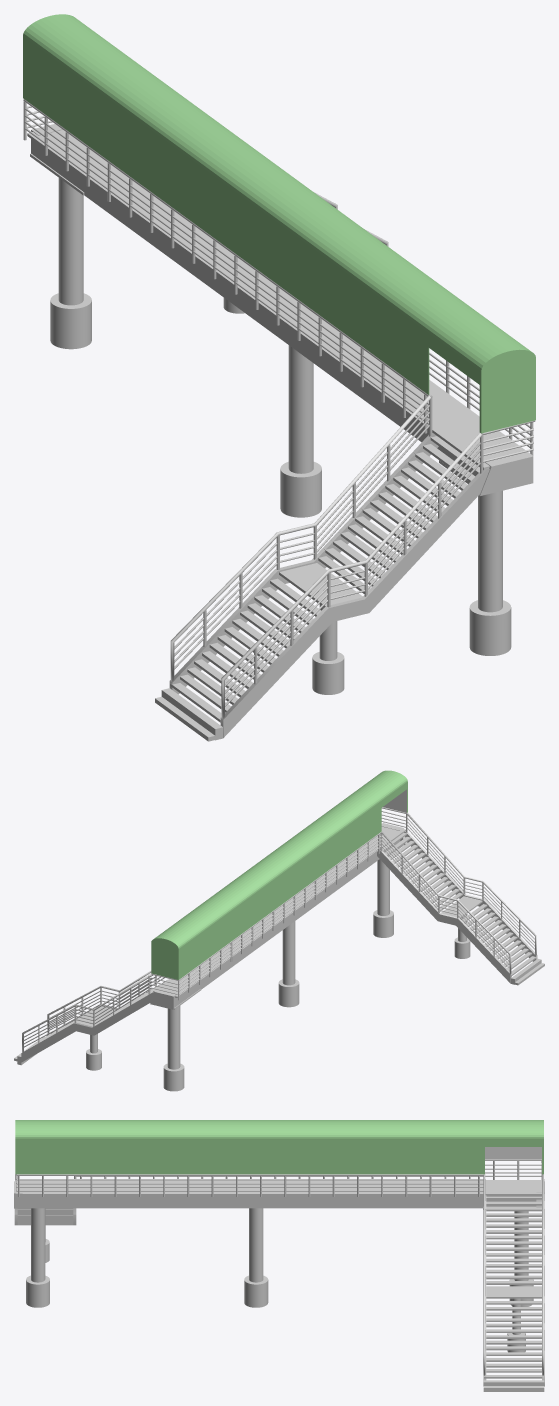
Rendered from Footbridge.fbx.
3 views of the same model, one above another, from view 1: azimuth 30°, elevation 25°; view 2: azimuth 150°, elevation 25°; view 3: azimuth 270°, elevation 25° (orthographic). The views are drawn at different scales.
Parts seen in each view (by area): view 1: Cylinder.001, land_1_2, land_2_3, Sweep_1_8, Sweep_1_9, Cylinder, Cylinder_8, Cylinder_1, Cylinder_4, Cylinder_3, Cylinder_9, Cylinder_Sweep_4 (+16 smaller); view 2: Cylinder.001, land_1_2, land_2_3, Sweep_1_9, Sweep_1_6, Sweep_1_8, Cylinder_8, Cylinder, Cylinder_1, Cylinder_9, Cylinder_3, Cylinder_4 (+5 smaller); view 3: Cylinder.001, land_1_2, land_2_2, Cylinder_1, Cylinder, Sweep_1, Sweep_3, Sweep_2, Sweep_1_2, Sweep_2_2, land_3_3, Cylinder_3 (+7 smaller).
Part boxes in pixels (x1=…): Cylinder.001: x1=23, y1=14, x2=535, y2=433; land_1_2: x1=27, y1=130, x2=532, y2=469; land_2_3: x1=33, y1=140, x2=476, y2=476; Sweep_1_8: x1=220, y1=468, x2=489, y2=738; Sweep_1_9: x1=169, y1=433, x2=438, y2=694; Cylinder: x1=288, y1=345, x2=313, y2=473; Cylinder_8: x1=58, y1=178, x2=83, y2=305; Cylinder_1: x1=478, y1=490, x2=502, y2=612; Cylinder_4: x1=469, y1=600, x2=511, y2=655; Cylinder_3: x1=280, y1=461, x2=321, y2=517; Cylinder_9: x1=50, y1=293, x2=91, y2=349; Cylinder_Sweep_4: x1=170, y1=395, x2=430, y2=681; Cylinder.001: x1=151, y1=770, x2=407, y2=979; land_1_2: x1=153, y1=826, x2=405, y2=997; land_2_3: x1=175, y1=840, x2=400, y2=1007; Sweep_1_9: x1=377, y1=850, x2=511, y2=983; Sweep_1_6: x1=21, y1=992, x2=153, y2=1062; Sweep_1_8: x1=404, y1=831, x2=537, y2=961; Cylinder_8: x1=167, y1=1006, x2=180, y2=1069; Cylinder: x1=282, y1=921, x2=295, y2=985; Cylinder_1: x1=377, y1=856, x2=389, y2=915; Cylinder_9: x1=163, y1=1063, x2=184, y2=1091; Cylinder_3: x1=278, y1=979, x2=299, y2=1007; Cylinder_4: x1=373, y1=910, x2=393, y2=937; Cylinder.001: x1=15, y1=1120, x2=543, y2=1174; land_1_2: x1=15, y1=1180, x2=541, y2=1195; land_2_2: x1=22, y1=1195, x2=541, y2=1208; Cylinder_1: x1=31, y1=1208, x2=45, y2=1282; Cylinder: x1=249, y1=1208, x2=263, y2=1282; Sweep_1: x1=16, y1=1174, x2=485, y2=1175; Sweep_3: x1=17, y1=1190, x2=483, y2=1191; Sweep_2: x1=17, y1=1186, x2=483, y2=1187; Sweep_1_2: x1=17, y1=1183, x2=483, y2=1184; Sweep_2_2: x1=17, y1=1179, x2=483, y2=1180; land_3_3: x1=486, y1=1286, x2=541, y2=1298; Cylinder_3: x1=244, y1=1275, x2=268, y2=1307.
Size of the model in its own units: 33608 by 17181 by 44484.
